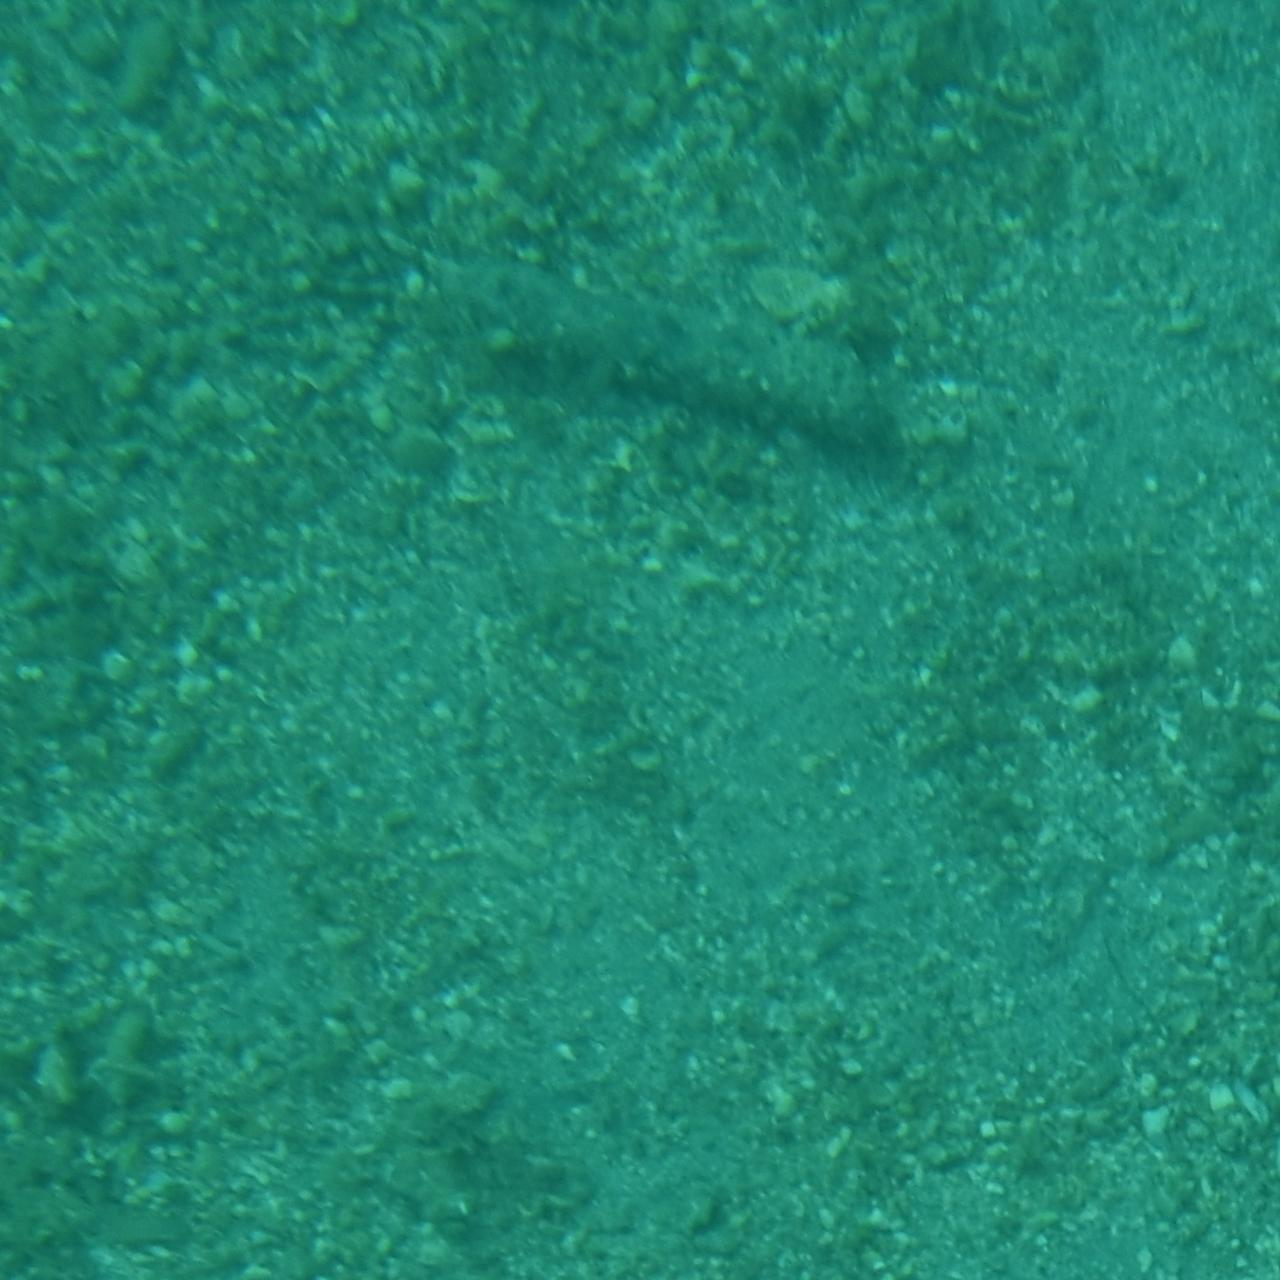Holothuria tubulosa: (392, 230, 888, 481)
